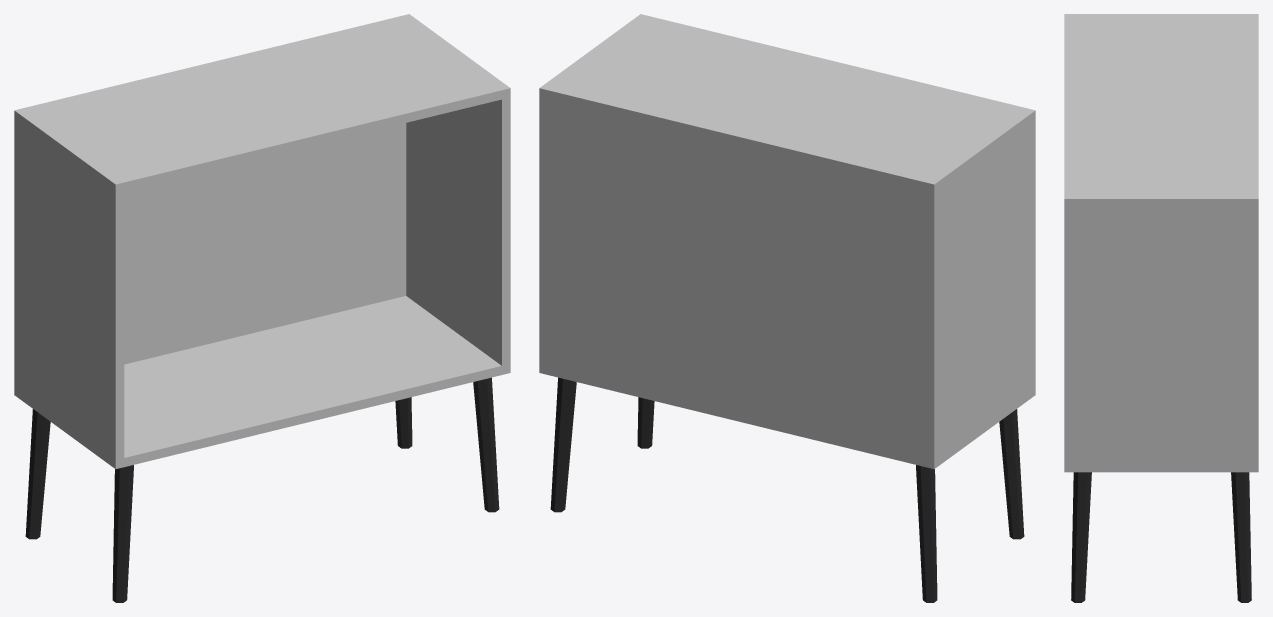
Rendered from Dresser3_C3.fbx.
The picture shows the model from 3 angles, left to right: view 1: azimuth 30°, elevation 25°; view 2: azimuth 150°, elevation 25°; view 3: azimuth 270°, elevation 25°; orthographic projection. The views are drawn at different scales.
Visible parts, largest first — view 1: Dresser3_C3; view 2: Dresser3_C3; view 3: Dresser3_C3.
Part boxes in pixels (bbox=[...]): Dresser3_C3: bbox=[14, 14, 510, 602]; Dresser3_C3: bbox=[539, 14, 1035, 602]; Dresser3_C3: bbox=[1064, 14, 1258, 602].
Bounding box in the file's own units: 90 × 92.28 × 40.
